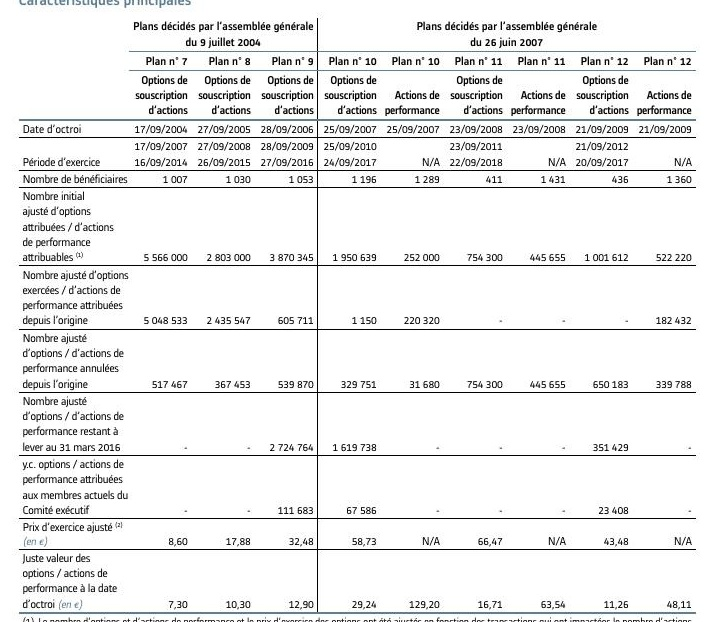table: (0, 0, 716, 622)
